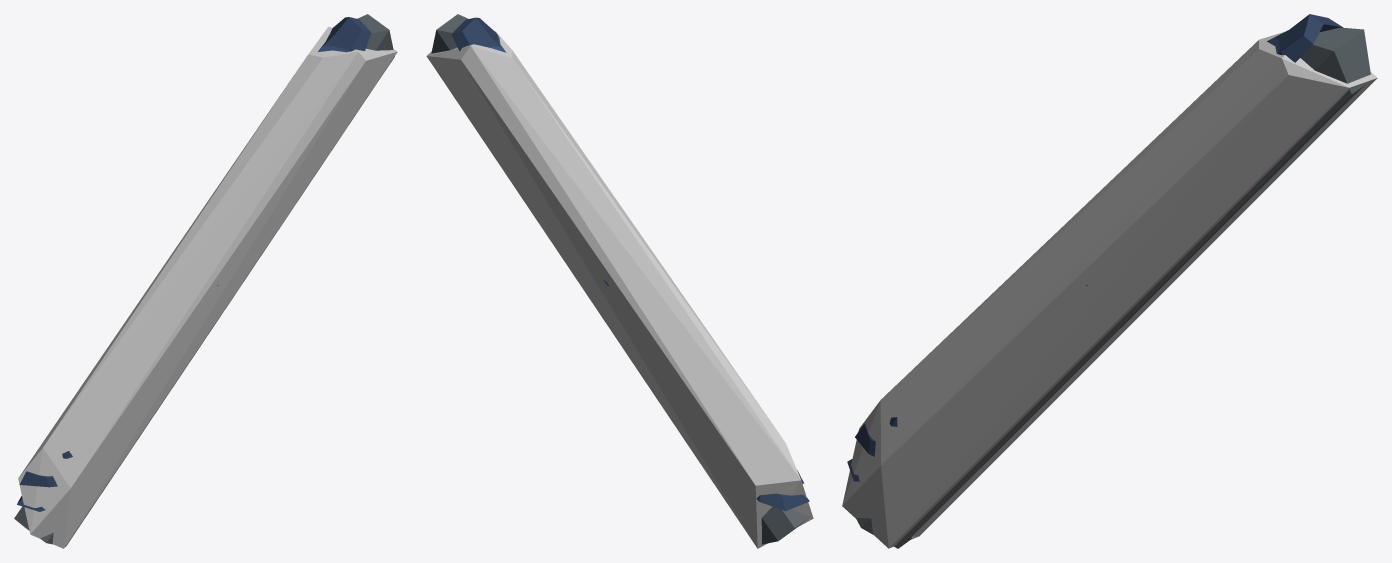
Rendered from SM_Bld_Roof_End_Straight_01.fbx.
3 views of the same model, side by side, from view 1: azimuth 30°, elevation 25°; view 2: azimuth 150°, elevation 25°; view 3: azimuth 330°, elevation 25° (orthographic). The views are drawn at different scales.
Parts seen in each view (by area): view 1: SM_Bld_Roof_End_Straight_01_ConvexHulls, SM_Bld_Roof_End_Straight_01; view 2: SM_Bld_Roof_End_Straight_01_ConvexHulls, SM_Bld_Roof_End_Straight_01; view 3: SM_Bld_Roof_End_Straight_01_ConvexHulls, SM_Bld_Roof_End_Straight_01.
Boxes of the visible parts, x1,y1,x2,y2 form: SM_Bld_Roof_End_Straight_01_ConvexHulls: (18,26,397,548); SM_Bld_Roof_End_Straight_01: (14,14,394,546); SM_Bld_Roof_End_Straight_01_ConvexHulls: (426,31,813,548); SM_Bld_Roof_End_Straight_01: (431,14,810,544); SM_Bld_Roof_End_Straight_01_ConvexHulls: (842,31,1377,548); SM_Bld_Roof_End_Straight_01: (847,14,1370,548).
Size of the model in its own units: 286 by 42.48 by 332.
2 materials, 1 textured.
